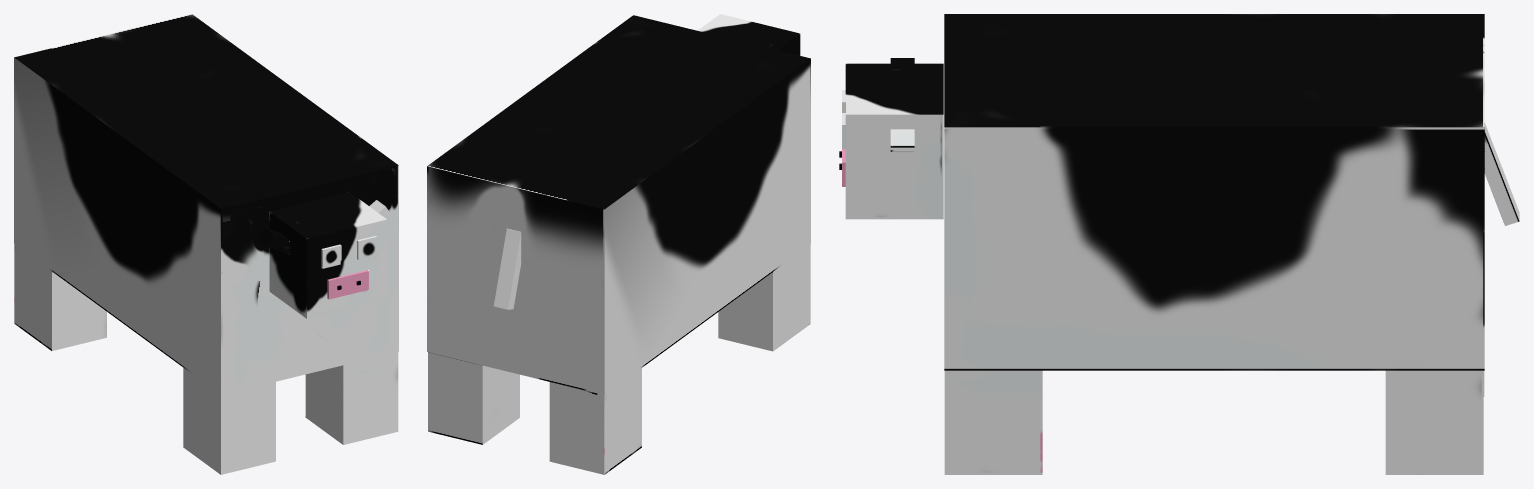
Rendered from Cow.fbx.
The picture shows the model from 3 angles, left to right: view 1: azimuth 30°, elevation 25°; view 2: azimuth 150°, elevation 25°; view 3: azimuth 270°, elevation 25°; orthographic projection. The views are drawn at different scales.
Visible parts, largest first — view 1: Cube; view 2: Cube; view 3: Cube.
Boxes of the visible parts, left/top/right/bottom form: Cube: left=14, top=14, right=398, bottom=474; Cube: left=427, top=14, right=810, bottom=474; Cube: left=839, top=14, right=1519, bottom=474.
Bounding box in the file's own units: 68.59 × 98.09 × 174.
